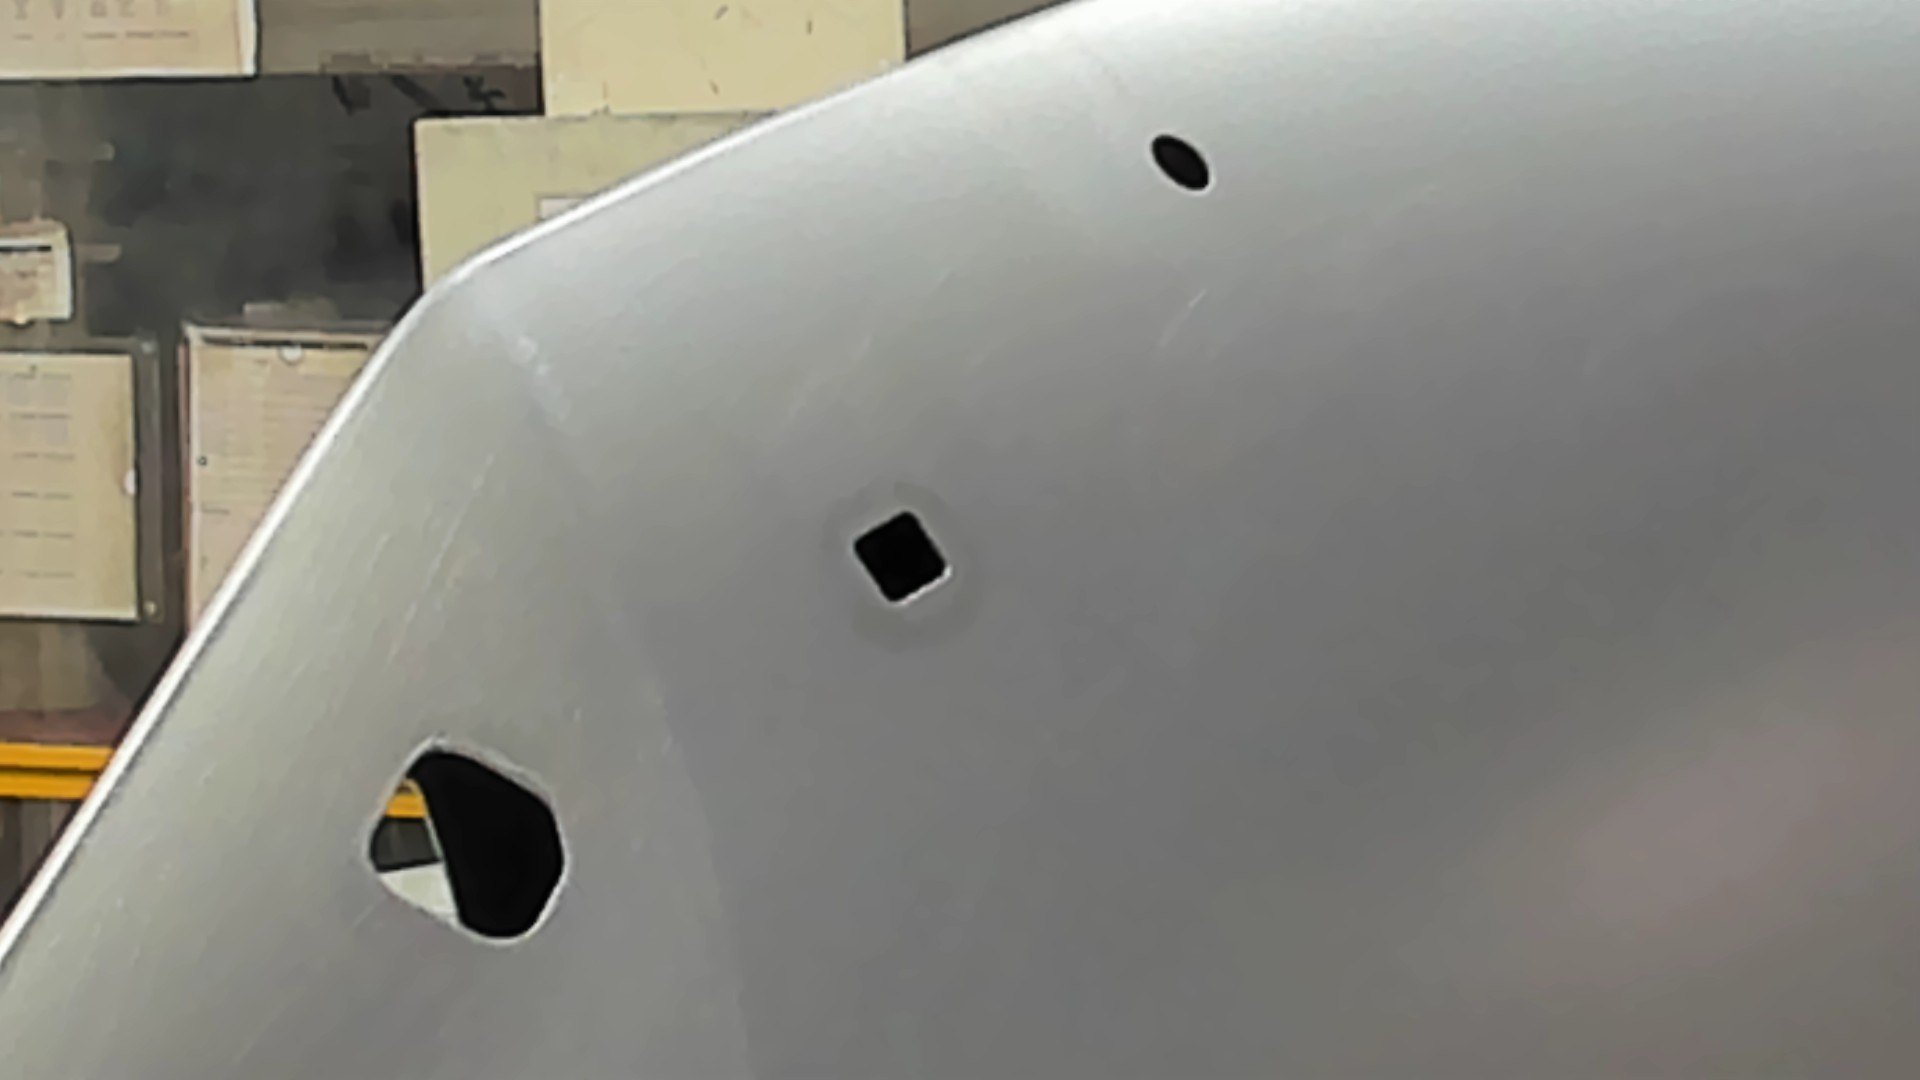chico: (1147, 129, 1215, 195)
grande: (360, 732, 570, 947)
mediano: (851, 506, 951, 607)
